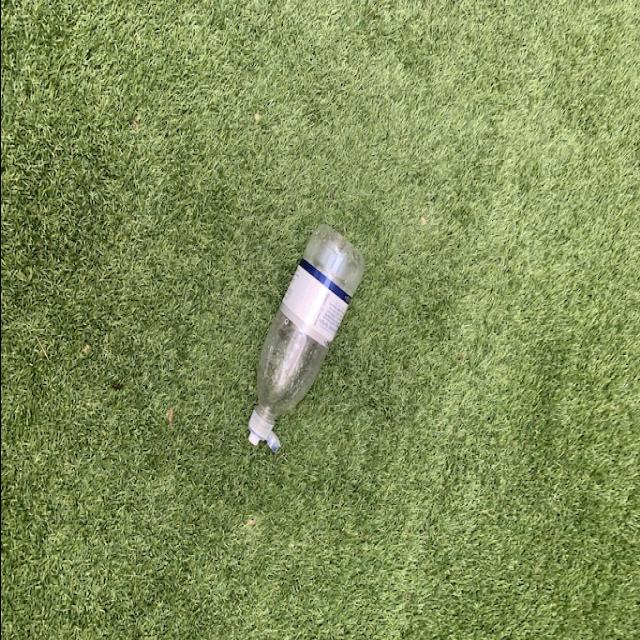PET: (238, 222, 366, 456)
